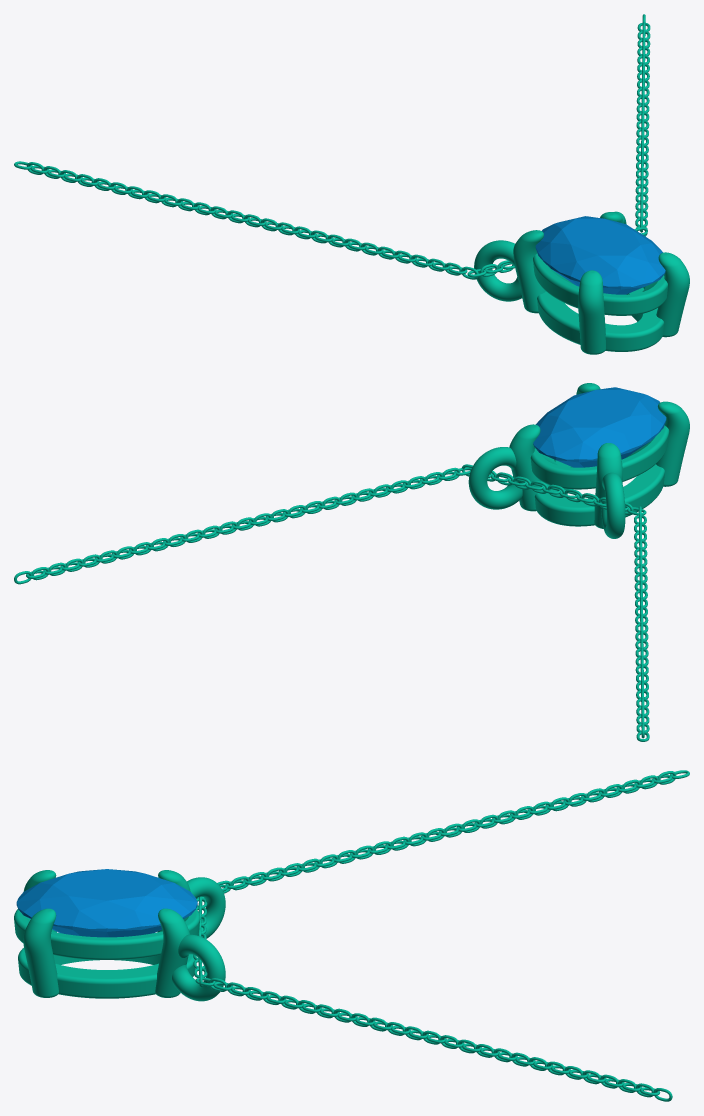
3 renders of one model, top to bottom at view 1: azimuth 30°, elevation 25°; view 2: azimuth 150°, elevation 25°; view 3: azimuth 270°, elevation 25°, orthographic. The views are drawn at different scales.
Visible parts, largest first — view 1: Diamond_Oval, Bezel (×2), Head Prong (×3), VBP147(base).3dm; view 2: Diamond_Oval, Bezel (×2), Head Prong (×3), VBP147(base).3dm; view 3: Diamond_Oval, Bezel (×2), Head Prong (×2), VBP147(base).3dm.
Boxes of the visible parts, x1,y1,x2,y2 form: Diamond_Oval: (535, 216, 665, 294); Bezel (×2): (533, 253, 667, 351); Head Prong (×3): (513, 230, 689, 354); VBP147(base).3dm: (474, 211, 626, 301); Diamond_Oval: (533, 387, 666, 467); Bezel (×2): (530, 425, 669, 526); Head Prong (×3): (509, 401, 689, 528); VBP147(base).3dm: (468, 447, 625, 538); Diamond_Oval: (16, 869, 197, 937); Bezel (×2): (14, 909, 200, 998); Head Prong (×2): (23, 908, 189, 997); VBP147(base).3dm: (172, 877, 225, 1001).
Bounding box in the file's own units: 3 × 0.3846 × 2.62.
